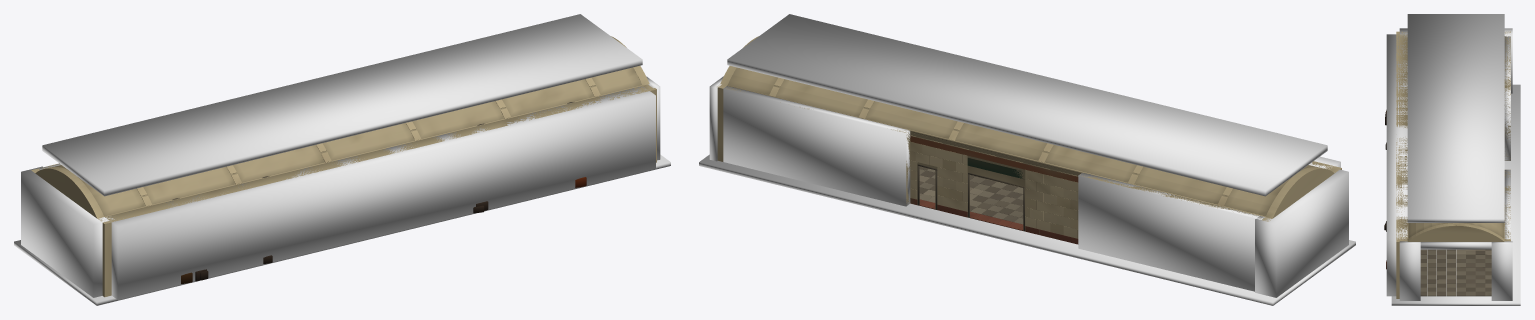
File: estacion_pasillo.glb
3 renders of one model, left to right at view 1: azimuth 30°, elevation 25°; view 2: azimuth 150°, elevation 25°; view 3: azimuth 270°, elevation 25°, orthographic. The views are drawn at different scales.
Visible parts, largest first — view 1: arqueria-colcaja, techo-colcaja, boveda, extremo_izq-colcaja, arqueria, extremos, suelo-colcaja, barricadas; view 2: techo-colcaja, locales_der-colcaja, locales_izq-colcaja, boveda, muro_locales, extremo_izq-colcaja, suelo-colcaja, extremos, suelo_0, suelo_1, suelo_2, extremo_der_fachada-colcaja; view 3: techo-colcaja, arqueria-colcaja, suelo-colcaja, arqueria, extremos, extremo_der-colcaja, extremo_der_fachada-colcaja, suelo_1, suelo_2, suelo_3, locales_izq-colcaja, muro_locales (+6 smaller).
Part boxes in pixels (x1,y1,x2,y2): arqueria-colcaja: (109,86,655,299); techo-colcaja: (42,14,642,196); boveda: (53,67,642,216); extremo_izq-colcaja: (21,166,114,297); arqueria: (105,86,649,222); extremos: (31,36,656,297); suelo-colcaja: (14,154,670,305); barricadas: (181,177,586,283); techo-colcaja: (727,14,1327,196); locales_der-colcaja: (723,86,910,206); locales_izq-colcaja: (1078,172,1264,291); boveda: (727,67,1316,216); muro_locales: (725,86,1261,244); extremo_izq-colcaja: (1255,169,1348,297); suelo-colcaja: (699,154,1355,305); extremos: (717,36,1341,221); suelo_0: (919,193,1023,230); suelo_1: (919,181,1023,218); suelo_2: (919,169,1023,206); extremo_der_fachada-colcaja: (709,76,723,161); techo-colcaja: (1407,14,1504,222); arqueria-colcaja: (1386,34,1407,296); suelo-colcaja: (1391,84,1520,305); arqueria: (1396,34,1407,239); extremos: (1396,31,1510,298); extremo_der-colcaja: (1399,241,1420,300); extremo_der_fachada-colcaja: (1491,241,1512,300); suelo_1: (1466,249,1485,296); suelo_2: (1446,249,1465,296); suelo_3: (1427,249,1446,296); locales_izq-colcaja: (1504,36,1510,160); muro_locales: (1504,36,1510,239).
Bounding box in the file's own units: 32 × 5.5 × 8.46.
